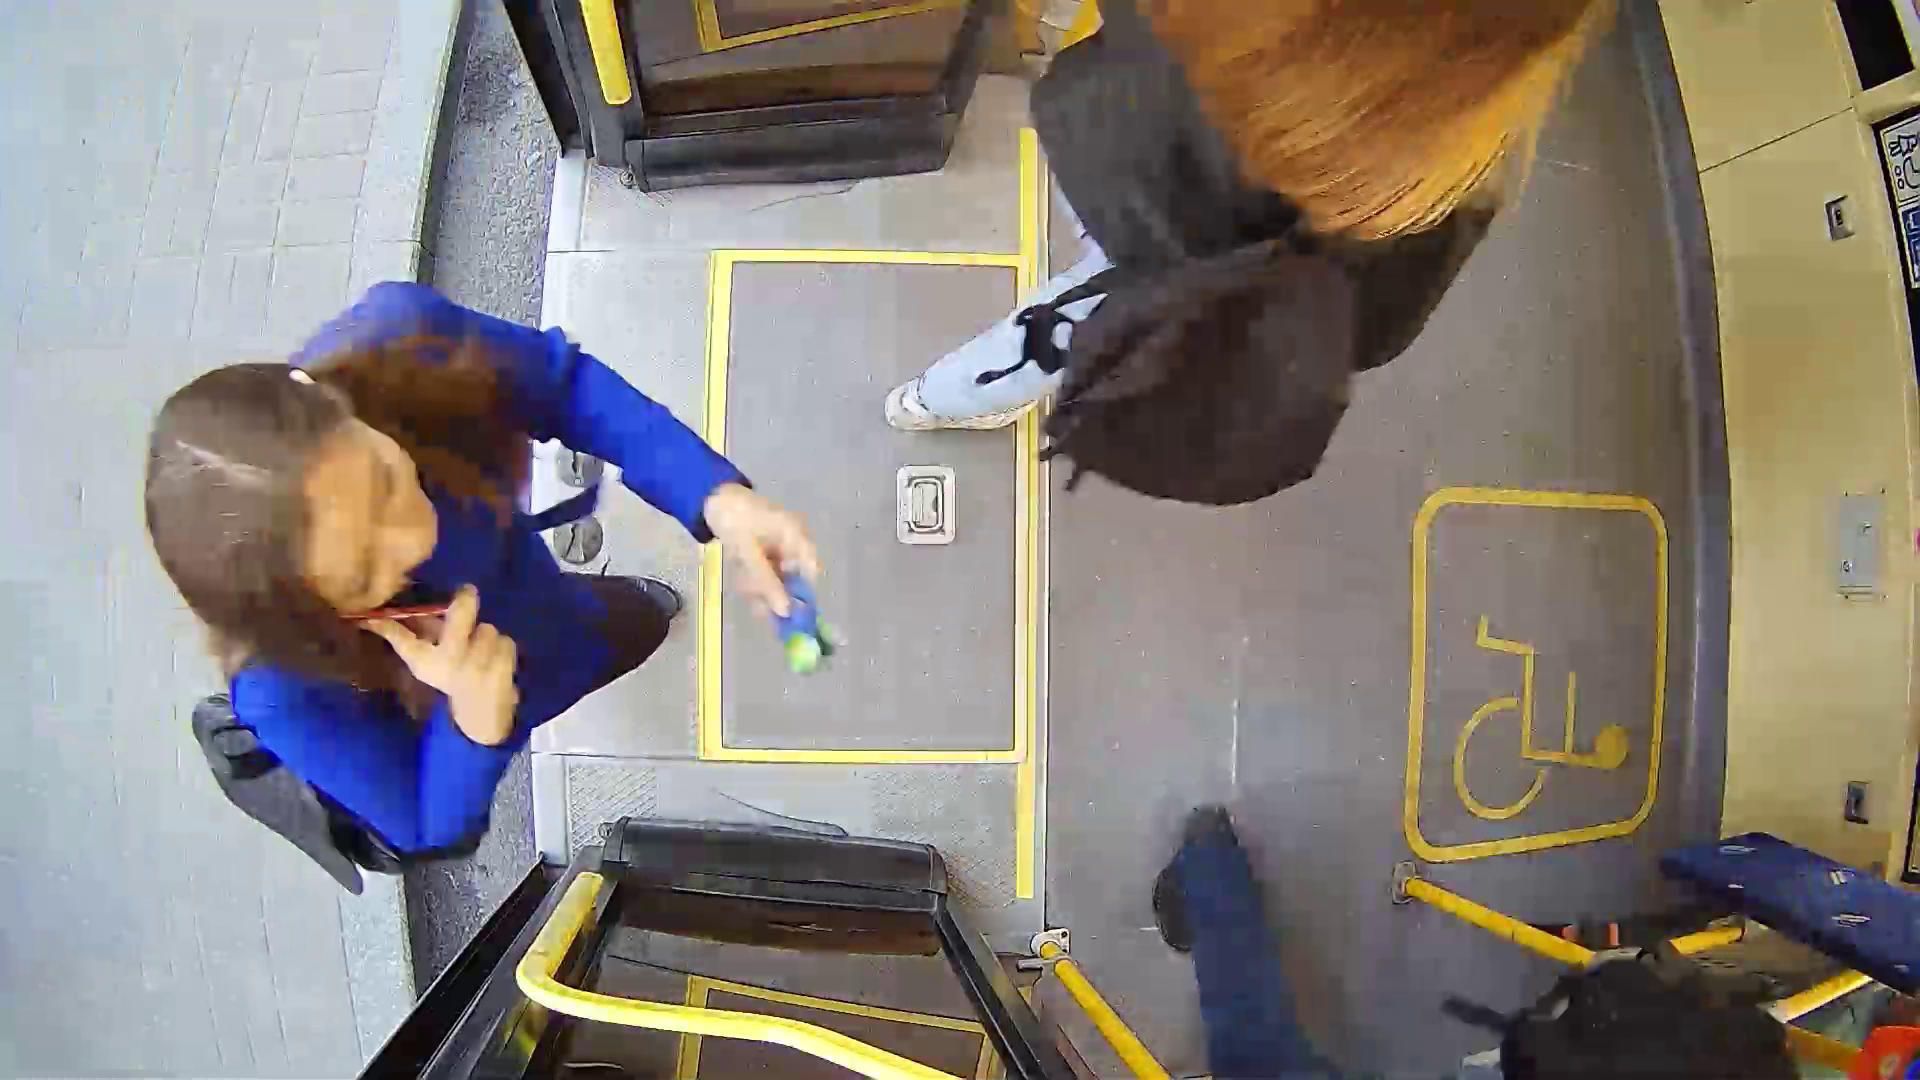person: (132, 295, 846, 855), (871, 6, 1573, 536)
